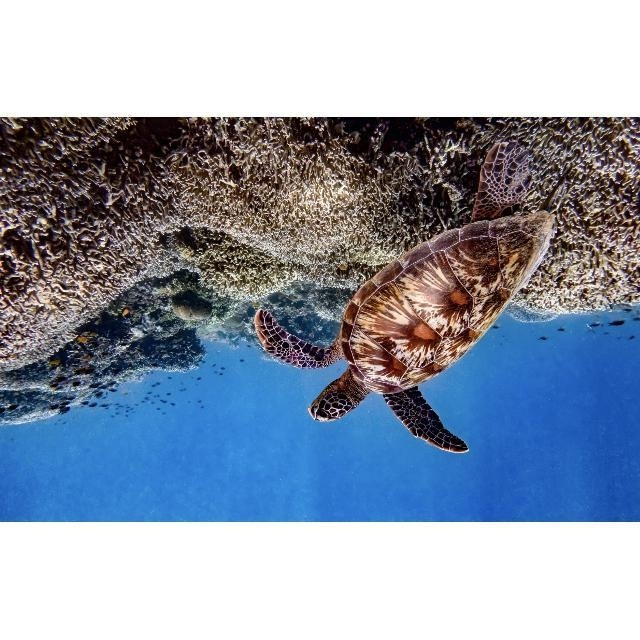turtle: (252, 140, 570, 453)
